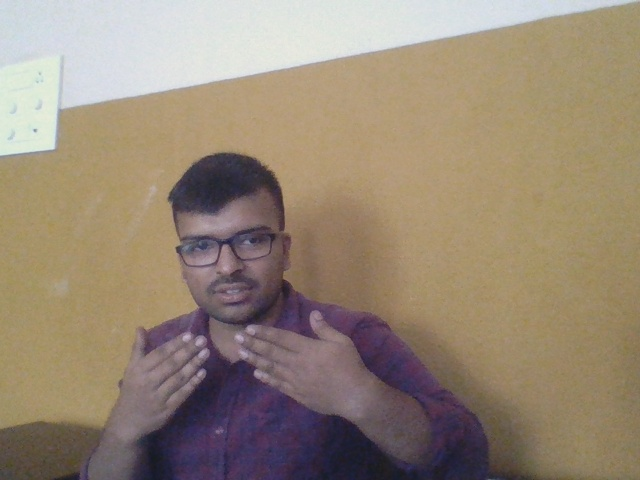Thank You: (99, 302, 386, 446)
